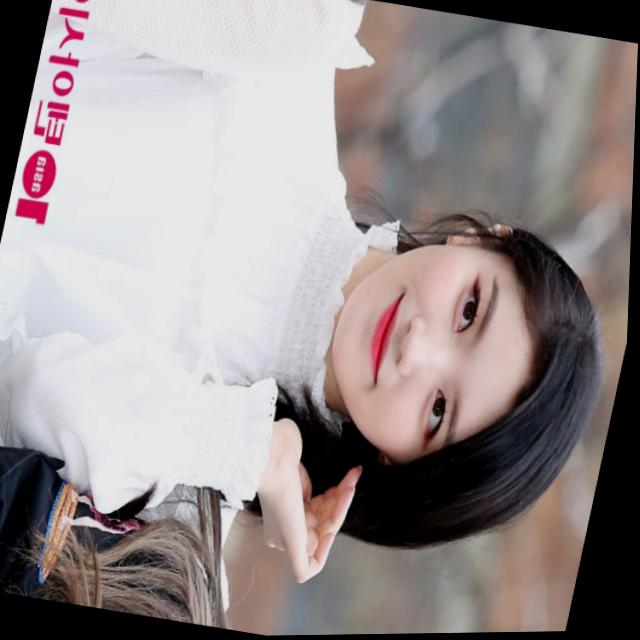face: (307, 228, 558, 484)
